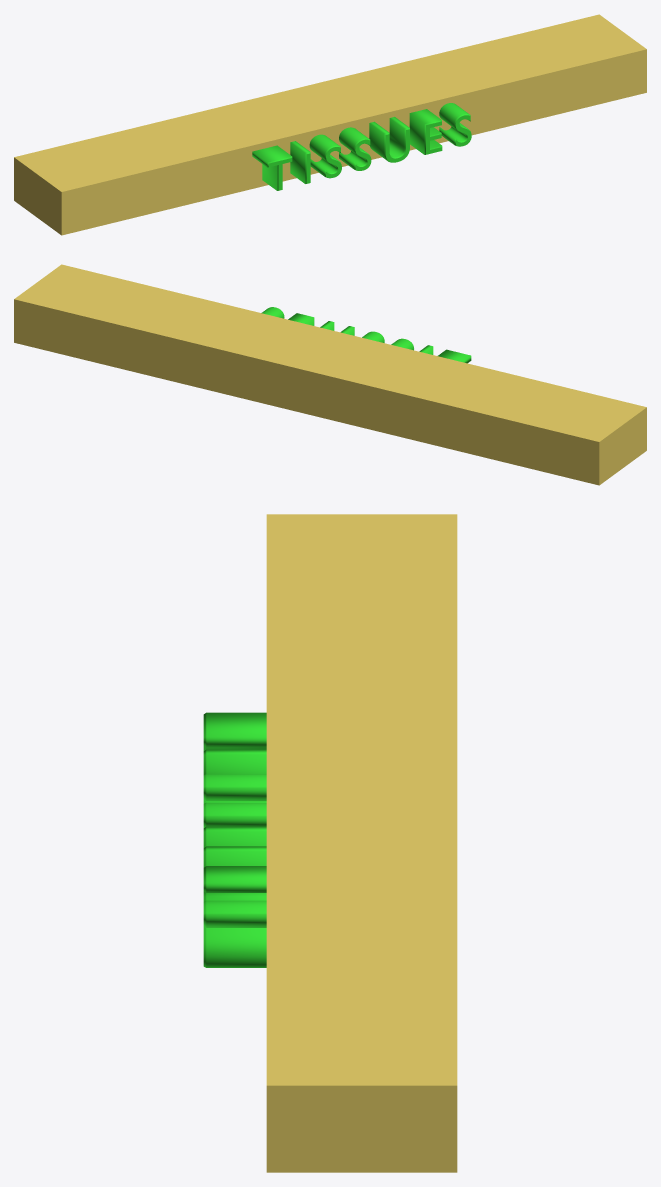
Rendered from tissues.gltf.
3 renders of one model, top to bottom at view 1: azimuth 30°, elevation 25°; view 2: azimuth 150°, elevation 25°; view 3: azimuth 270°, elevation 25°, orthographic. The views are drawn at different scales.
Visible parts, largest first — view 1: Cube.001, CEELS.001; view 2: Cube.001, CEELS.001; view 3: Cube.001, CEELS.001.
Boxes of the visible parts, bbox=[...] form: Cube.001: bbox=[14, 14, 646, 235]; CEELS.001: bbox=[252, 103, 471, 190]; Cube.001: bbox=[14, 264, 646, 485]; CEELS.001: bbox=[261, 307, 471, 363]; Cube.001: bbox=[266, 514, 457, 1172]; CEELS.001: bbox=[203, 712, 266, 967].
Bounding box in the file's own units: 4.37 × 0.3096 × 0.8191.
